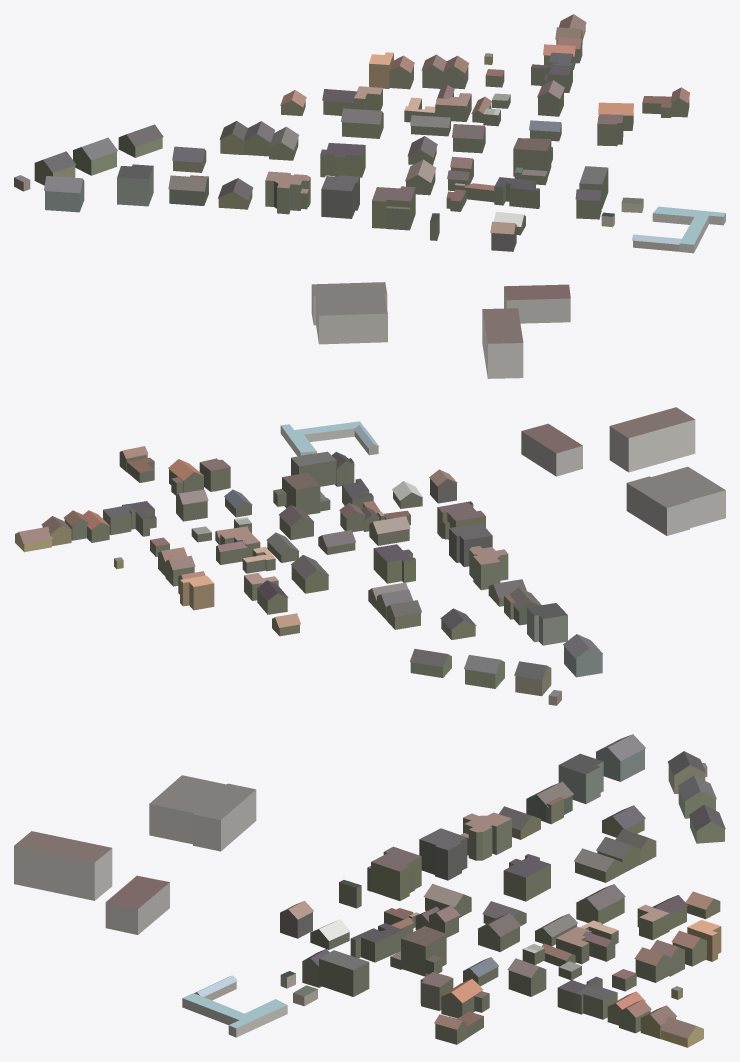
3 renders of one model, top to bottom at view 1: azimuth 30°, elevation 25°; view 2: azimuth 150°, elevation 25°; view 3: azimuth 270°, elevation 25°, orthographic. The views are drawn at different scales.
Visible parts, largest first — view 1: tuile; view 2: tuile; view 3: tuile.
Part boxes in pixels (bbox=[...]): tuile: bbox=[14, 14, 725, 378]; tuile: bbox=[15, 407, 725, 705]; tuile: bbox=[14, 734, 725, 1047].
Bounding box in the file's own units: 258 × 24.25 × 254.
